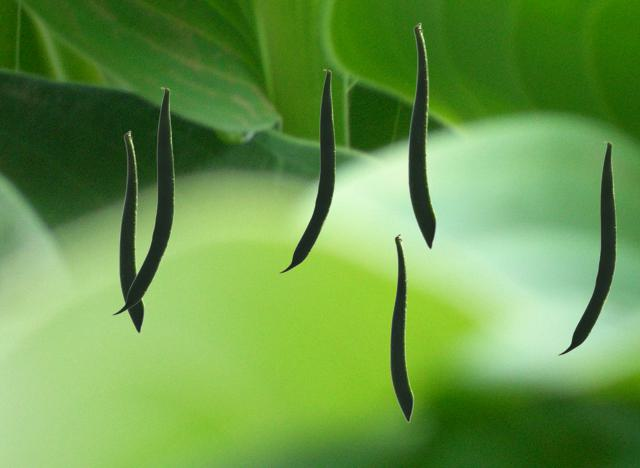french_bean: (111, 87, 173, 314), (557, 141, 615, 354), (278, 69, 334, 272), (407, 22, 436, 249), (118, 130, 144, 333), (389, 233, 413, 422)
